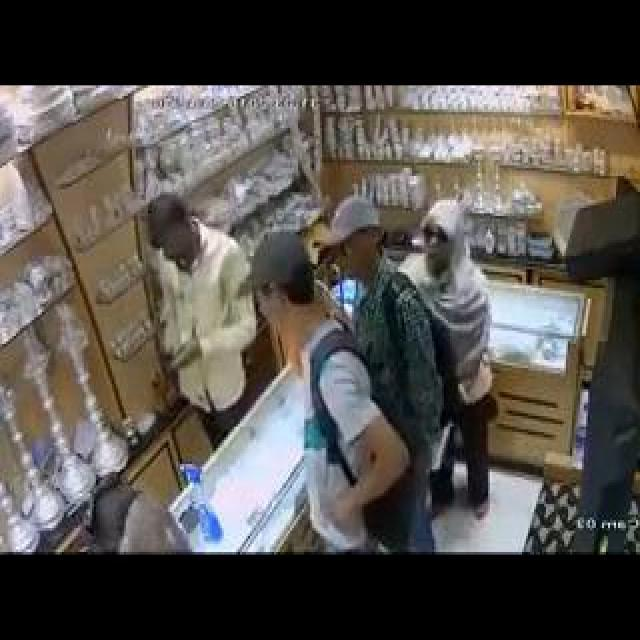Shoplifting: (223, 179, 509, 533)
